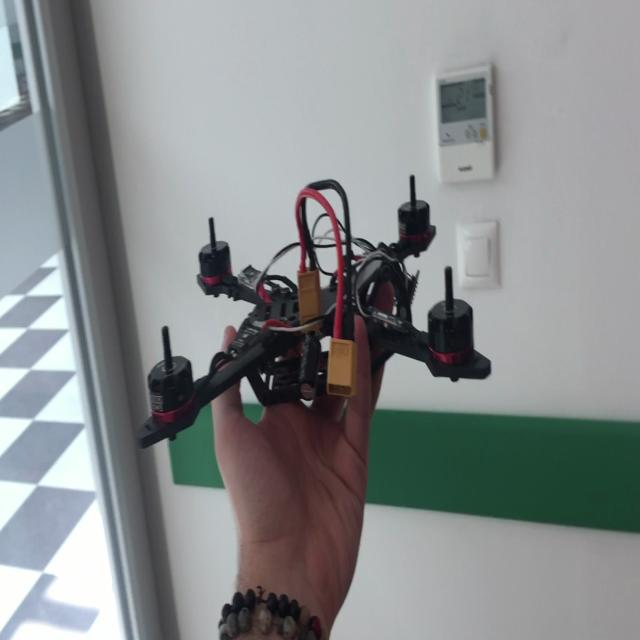drone: (133, 182, 503, 450)
